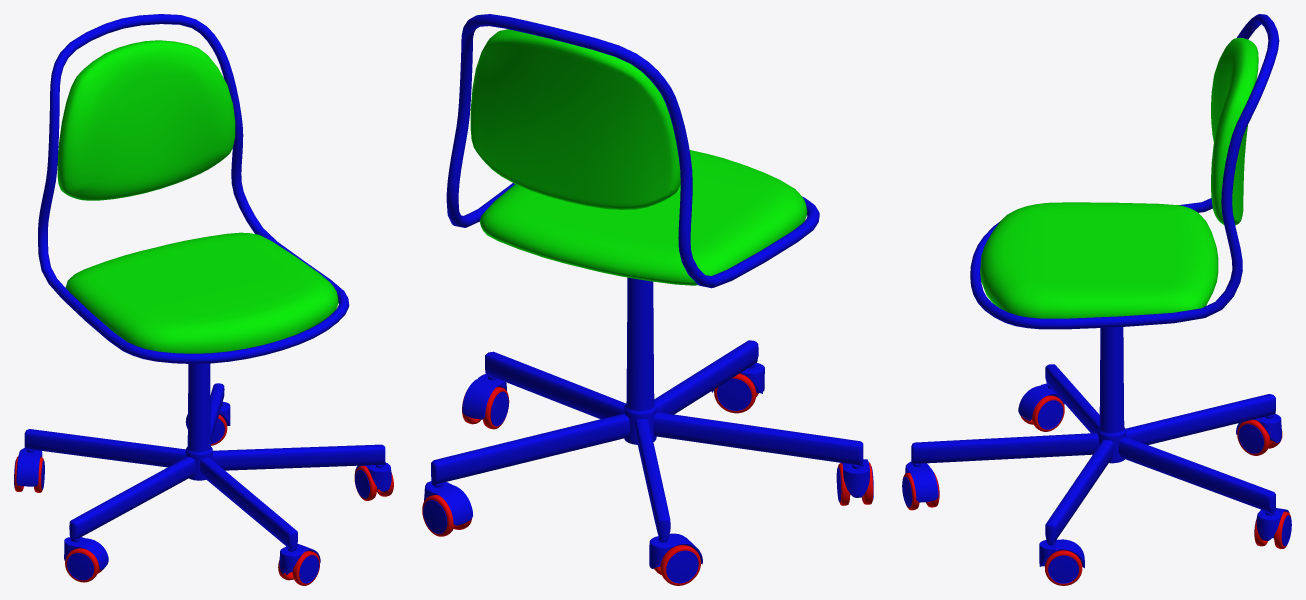
The model's file is chair_id.fbx.
3 renders of one model, left to right at view 1: azimuth 30°, elevation 25°; view 2: azimuth 150°, elevation 25°; view 3: azimuth 270°, elevation 25°, orthographic. The views are drawn at different scales.
Parts seen in each view (by area): view 1: Chair5; view 2: Chair5; view 3: Chair5.
Part boxes in pixels (x1,y1,x2,y2): Chair5: (14,14,393,585); Chair5: (422,14,873,585); Chair5: (902,14,1291,585).
Bounding box in the file's own units: 68.35 × 88.05 × 66.62.
